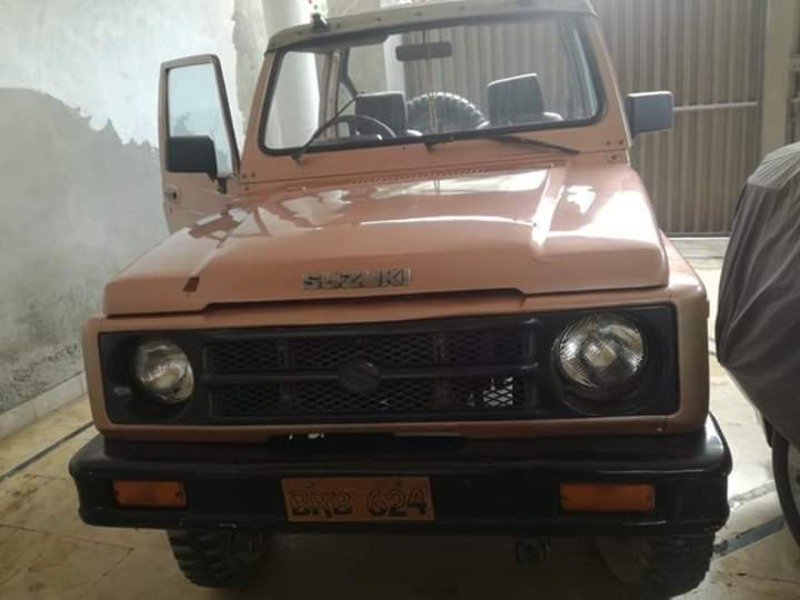License Plate: (276, 474, 443, 532)
